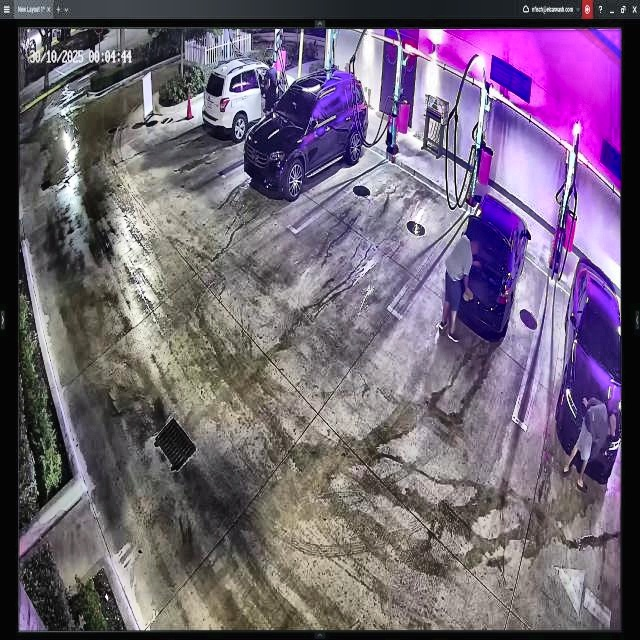Car: (244, 66, 367, 197), (450, 194, 531, 338), (203, 64, 296, 136)
